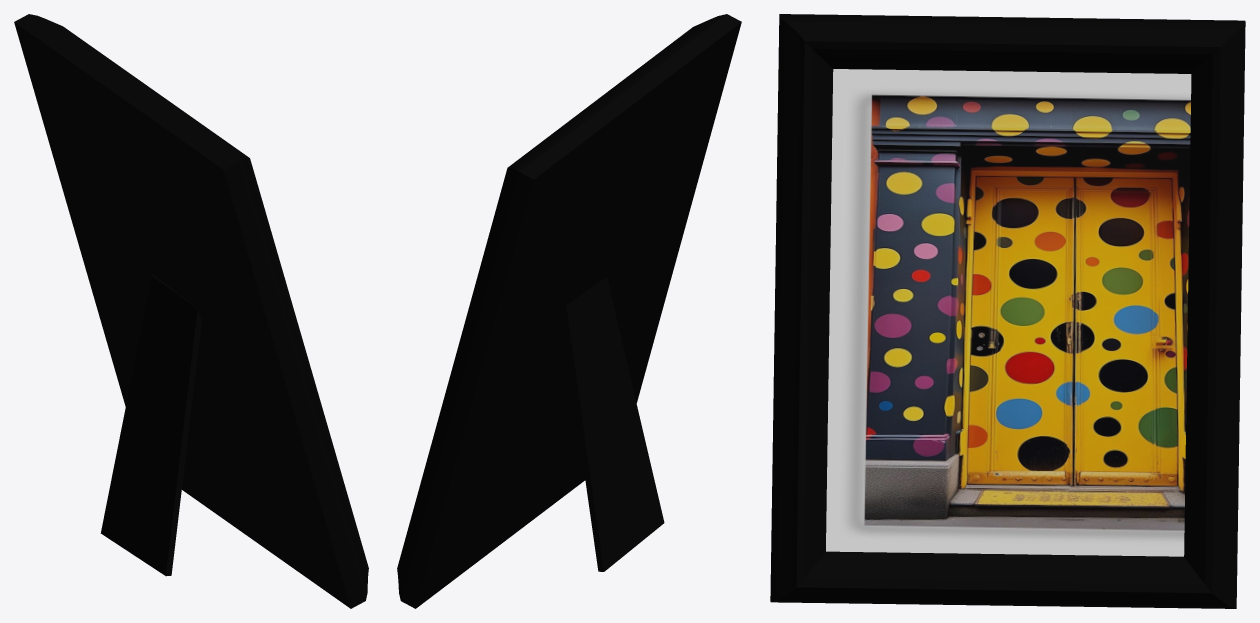
File: m1odel.glb
3 views of the same model, side by side, from view 1: azimuth 30°, elevation 25°; view 2: azimuth 150°, elevation 25°; view 3: azimuth 270°, elevation 25° (orthographic). The views are drawn at different scales.
Parts seen in each view (by area): view 1: Frame_Cube%2E001_Frame_n3d, Frame_Foot_Cube%2E003_Frame_n3d; view 2: Frame_Cube%2E001_Frame_n3d, Frame_Foot_Cube%2E003_Frame_n3d; view 3: Frame_Cube%2E001_Frame_Photo_n3d, Frame_Cube%2E001_Frame_n3d.
Part boxes in pixels (left/top/right/bottom): Frame_Cube%2E001_Frame_n3d: left=14, top=14, right=368, bottom=608; Frame_Foot_Cube%2E003_Frame_n3d: left=100, top=275, right=201, bottom=576; Frame_Cube%2E001_Frame_n3d: left=397, top=14, right=741, bottom=608; Frame_Foot_Cube%2E003_Frame_n3d: left=562, top=277, right=664, bottom=571; Frame_Cube%2E001_Frame_Photo_n3d: left=826, top=69, right=1191, bottom=556; Frame_Cube%2E001_Frame_n3d: left=770, top=14, right=1245, bottom=608.
Size of the model in its own units: 0.00662 by 0.0197 by 0.016.
3 materials, 1 textured.
